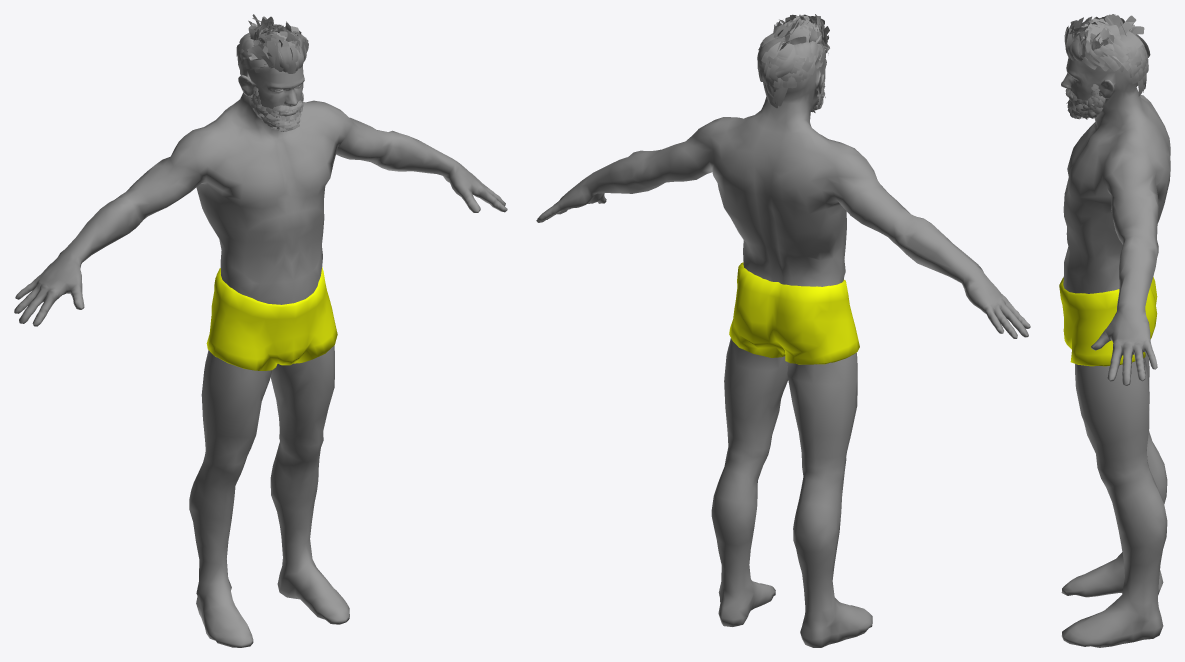
Rendered from Man_test_4.obj.
3 views of the same model, side by side, from view 1: azimuth 30°, elevation 25°; view 2: azimuth 150°, elevation 25°; view 3: azimuth 270°, elevation 25° (orthographic).
Bounding box in the file's own units: 160 × 189 × 31.78.
